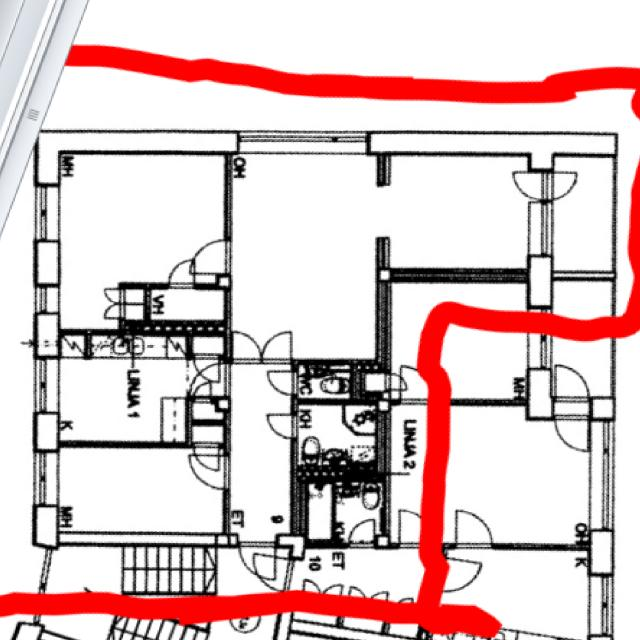door: (238, 535, 274, 582), (529, 173, 582, 200), (188, 240, 231, 273), (500, 173, 552, 200), (189, 458, 231, 490), (262, 334, 290, 364), (234, 334, 262, 364), (265, 371, 298, 395), (266, 415, 298, 439), (169, 259, 194, 289), (195, 354, 221, 382), (195, 443, 219, 472), (193, 379, 212, 403), (103, 304, 126, 319), (103, 290, 126, 304)
